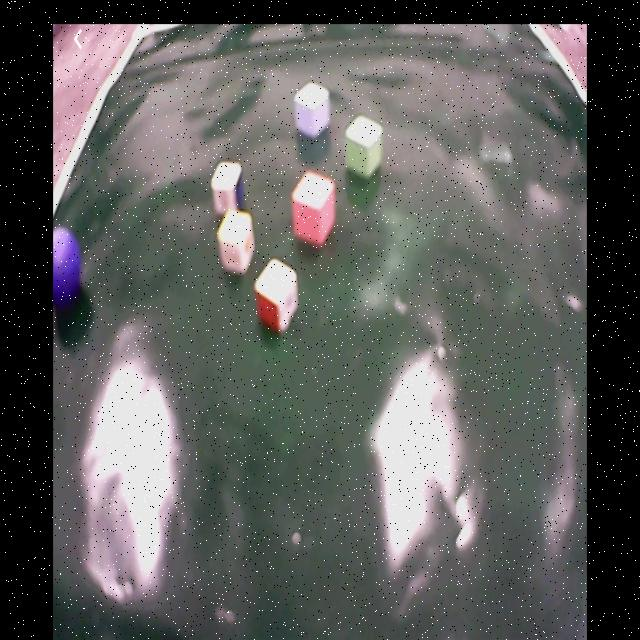ball: (55, 226, 84, 317)
